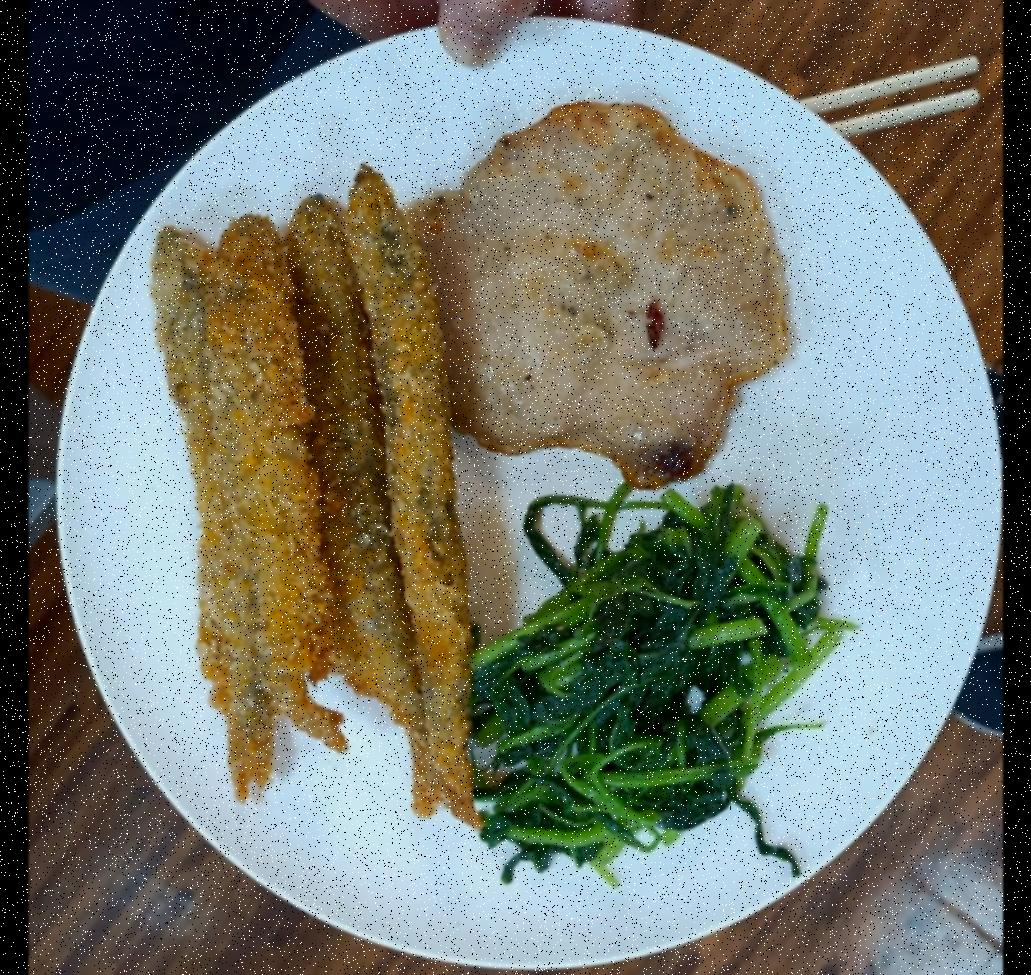fried shishamo: (144, 166, 462, 809)
grilled chicken steak: (435, 98, 782, 481)
plate: (46, 2, 993, 970)
side dish: (462, 470, 832, 888)
